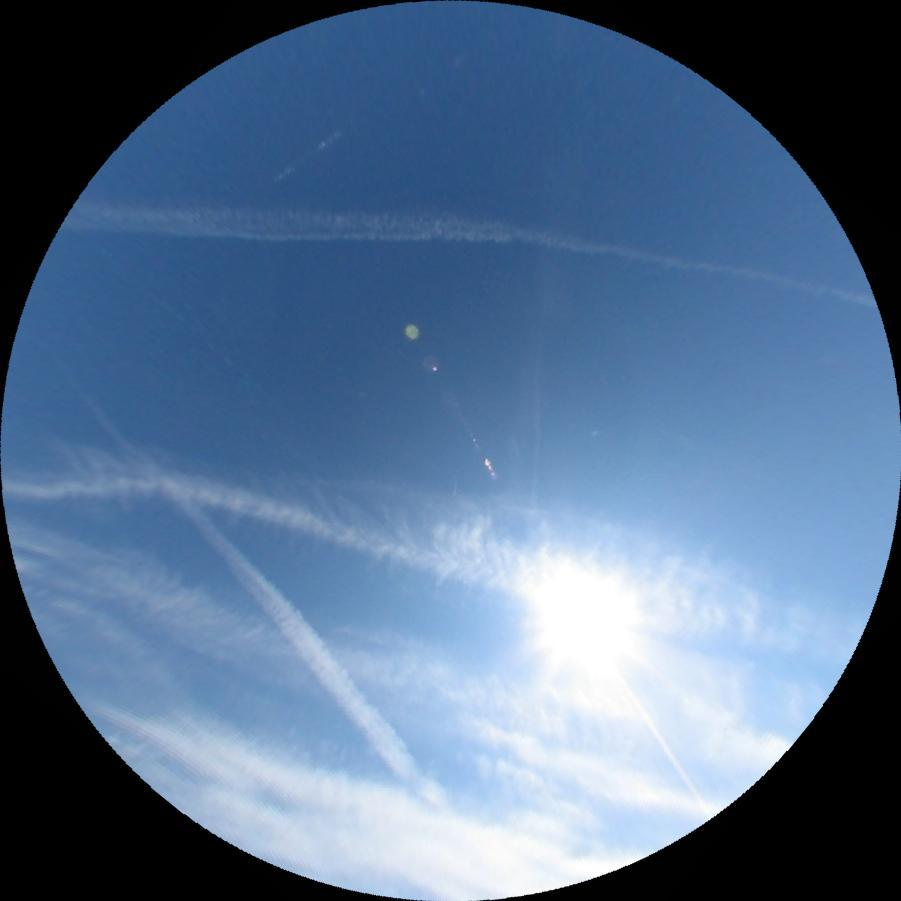contrail veryold: (0, 385, 877, 675), (85, 387, 463, 823), (59, 179, 881, 309)
contrail young: (451, 471, 457, 496)
parasite: (79, 227, 278, 403), (614, 674, 717, 817), (274, 127, 342, 183)
sun: (543, 573, 651, 690)
unknow: (529, 298, 547, 509)
